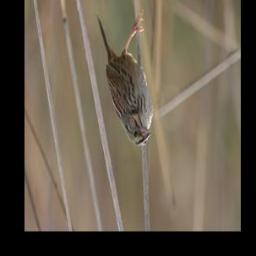Sparrow: (95, 9, 155, 147)
